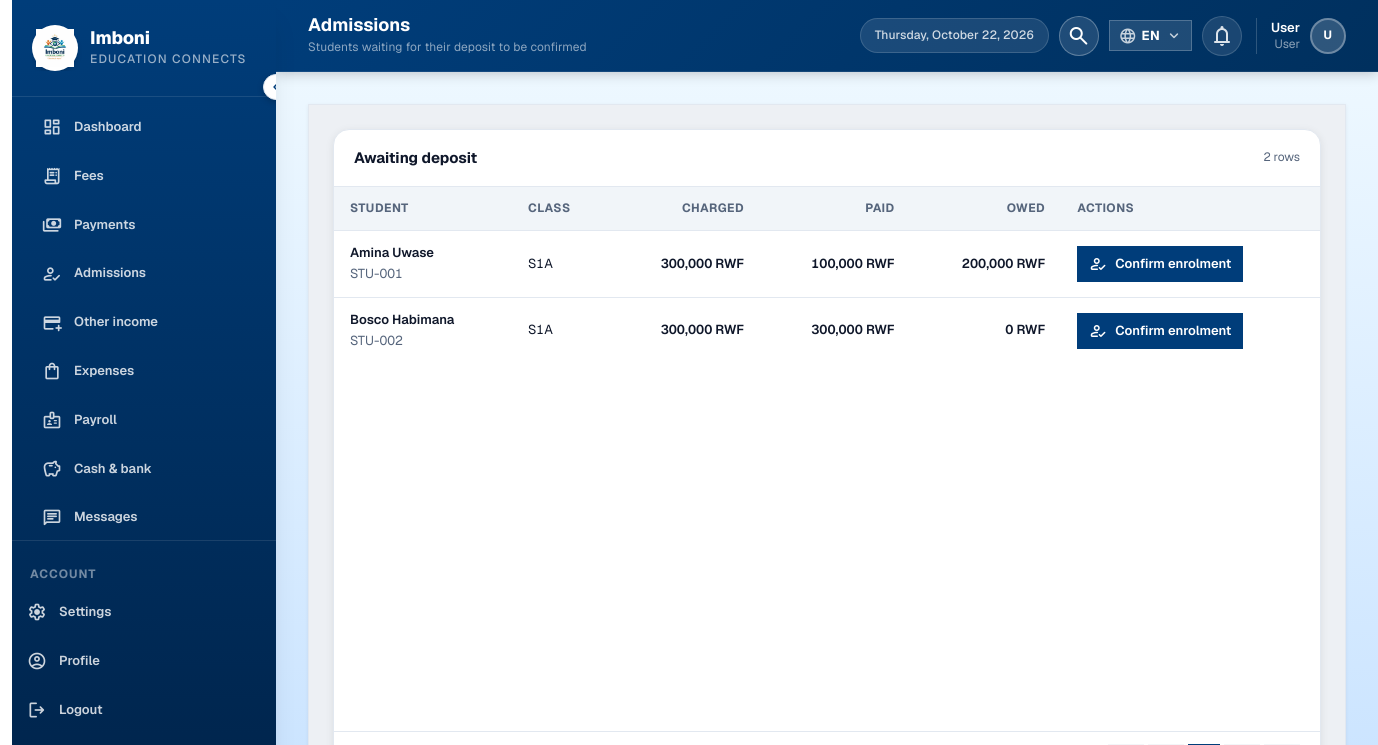
FinanceAdmissions › keeps the student on the list and shows why when confirming fails
Expected: the text "Amina Uwase" is shown, [350,244,434,261]
Click the button "Confirm enrolment" in the row of "Amina Uwase": {"x": 1160, "y": 264} [1077,246,1243,282]
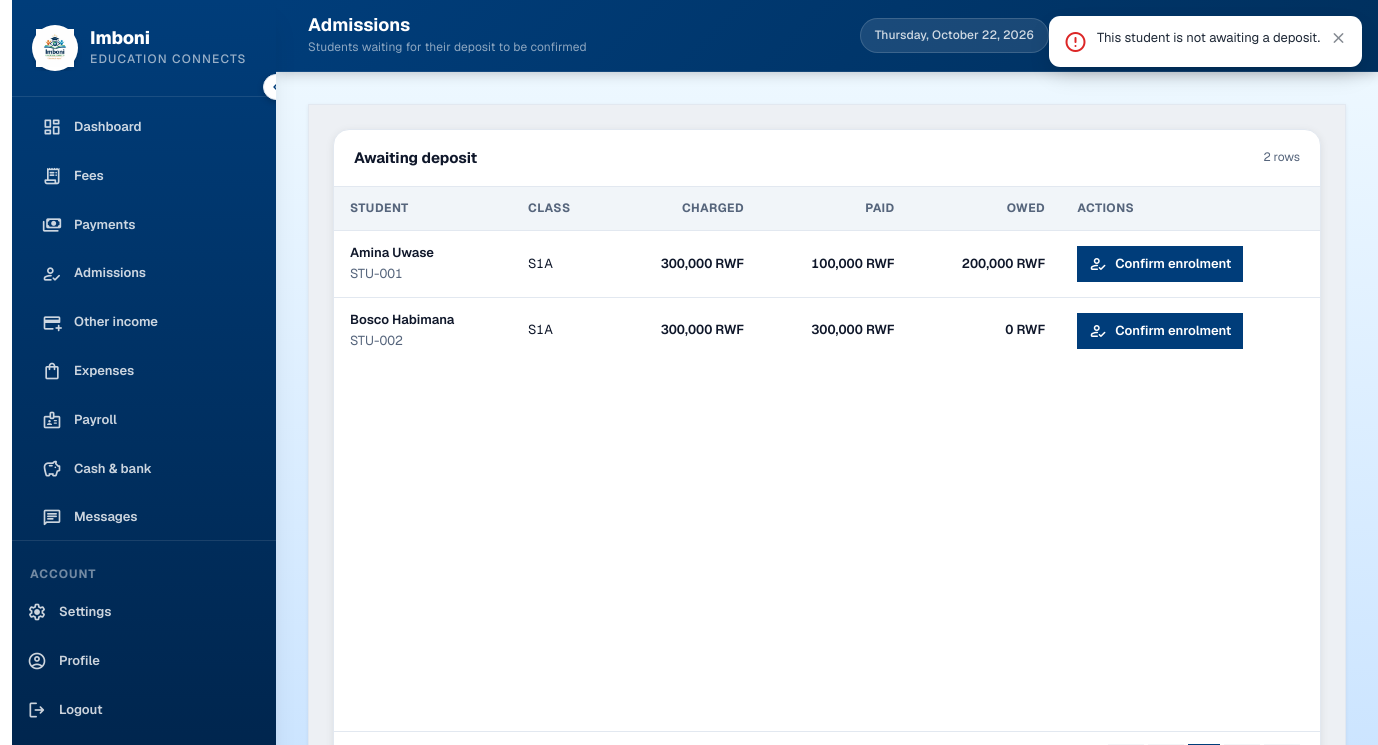
Expected: the text "Amina Uwase" is shown, [350,244,434,261]
Expected: the text "This student is not awaiting a deposit." is shown, [1097,29,1320,47]
